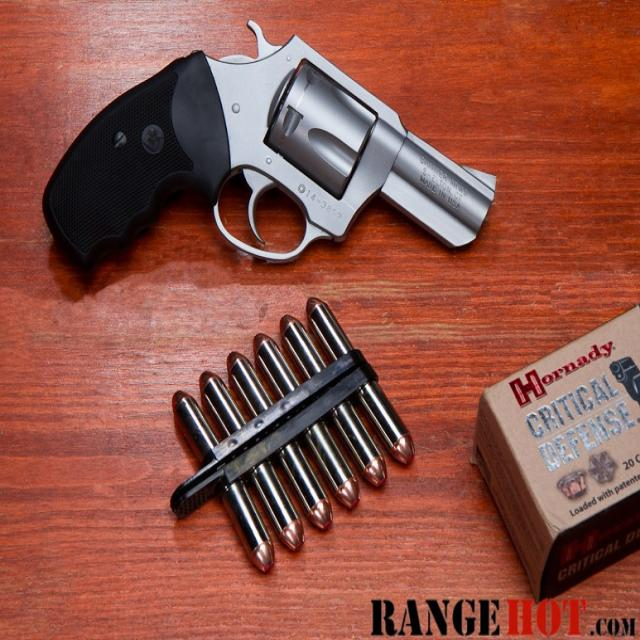Gun: (0, 14, 502, 336)
